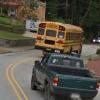Bus: (33, 15, 87, 58)
